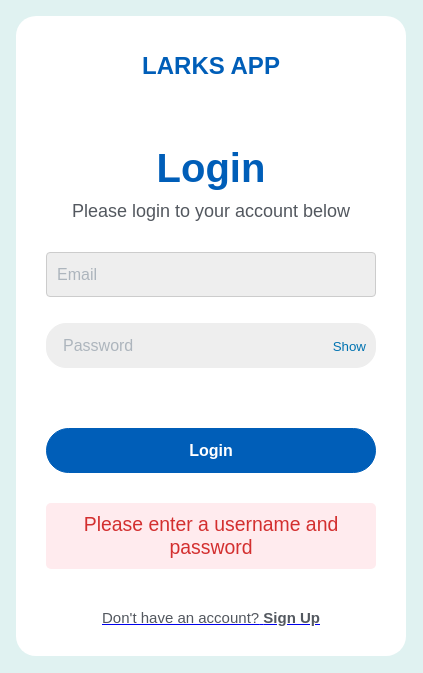
SignIn › displays error message for incorrect credentials
This screenshot has width=423, height=673.
Type "test@example.com" into the field with placeholder "Email" at (211, 274), box [46, 252, 376, 297]
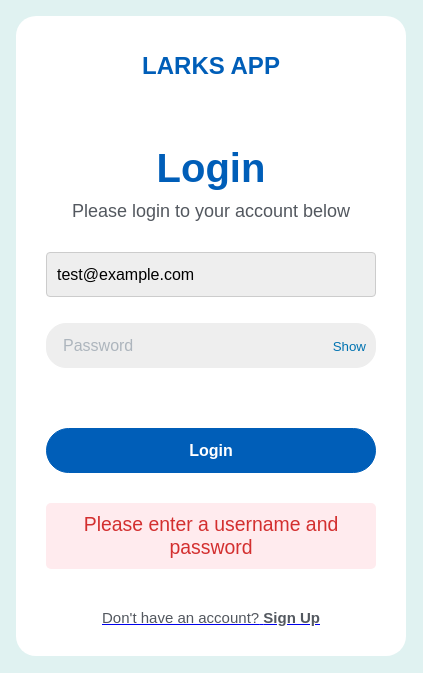
Type "password123" into the password field with placeholder "Password" at (211, 346), box [46, 323, 376, 368]
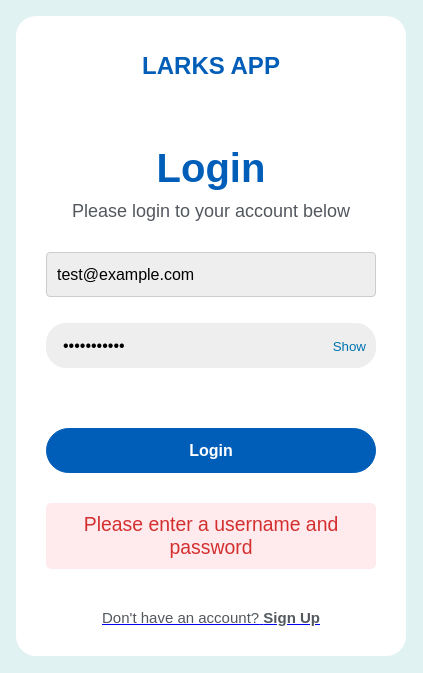
Click the button "Login" at (211, 450), box [46, 428, 376, 473]
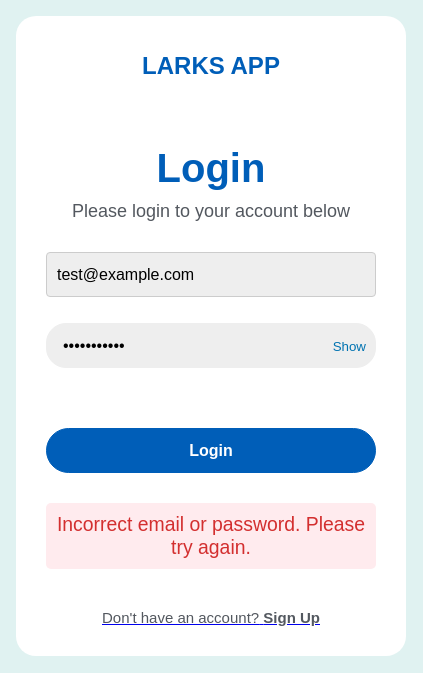
Now the text "Incorrect email or password. Please try again." is shown, box [46, 503, 376, 569]
